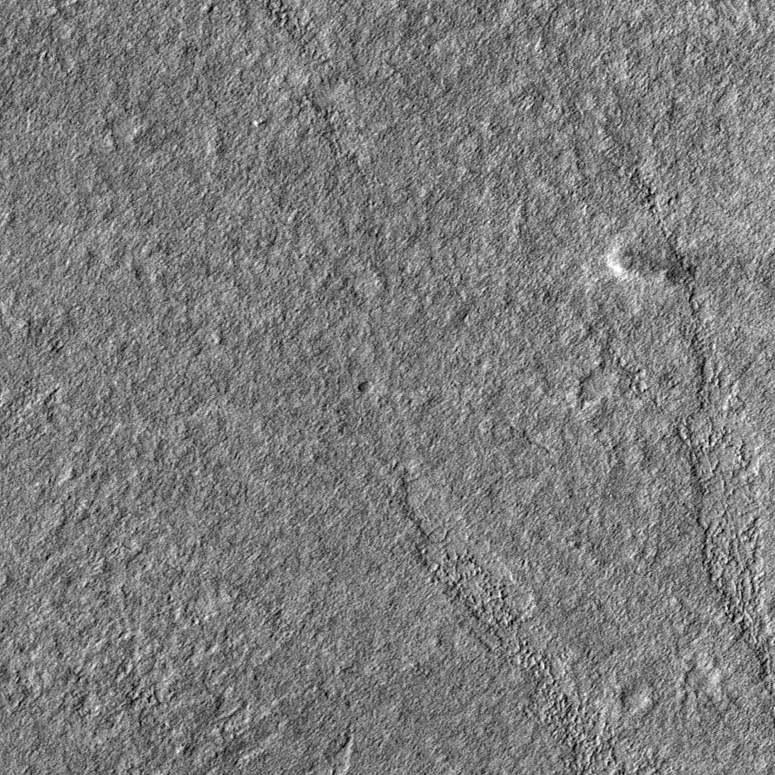dust_devil: (602, 242, 702, 290)
